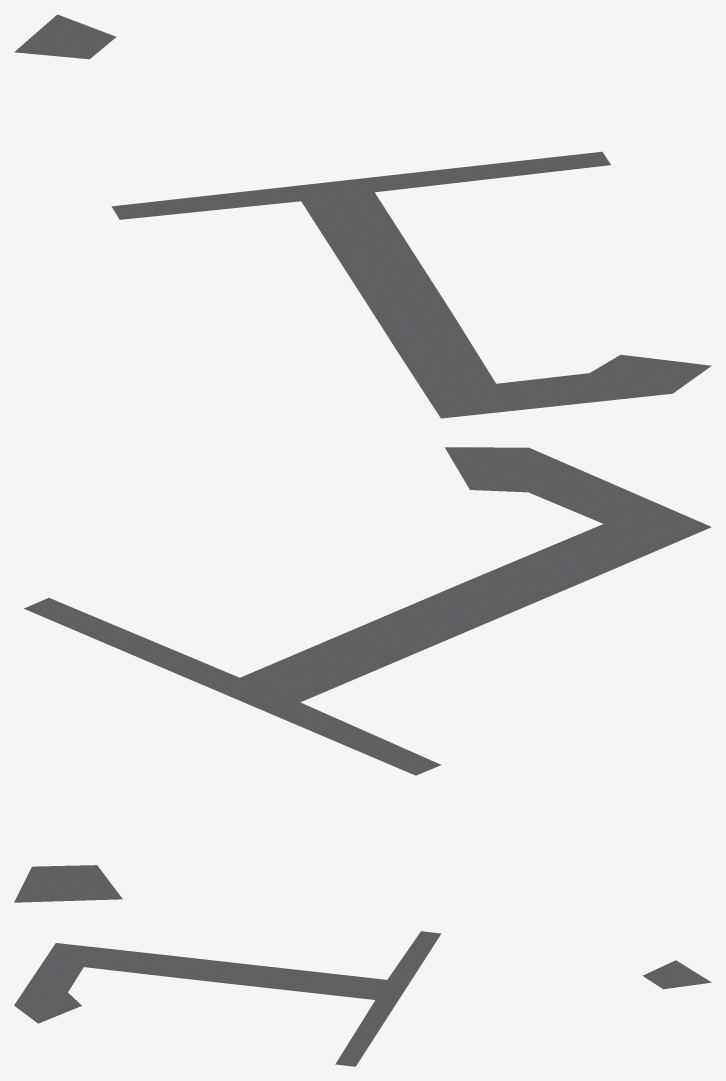
File: kd_connection_world-inner_surface_0_15.glb
3 views of the same model, one above another, from view 1: azimuth 30°, elevation 25°; view 2: azimuth 150°, elevation 25°; view 3: azimuth 270°, elevation 25° (orthographic). The views are drawn at different scales.
Parts seen in each view (by area): view 1: kd_connection_world-inner_surface_0_15; view 2: kd_connection_world-inner_surface_0_15; view 3: kd_connection_world-inner_surface_0_15.
Part boxes in pixels (x1,y1,x2,y2): kd_connection_world-inner_surface_0_15: (14, 14, 711, 418); kd_connection_world-inner_surface_0_15: (14, 447, 711, 902); kd_connection_world-inner_surface_0_15: (14, 931, 711, 1066).
Bounding box in the file's own units: 40.04 × 7.63e-06 × 87.11.
Materials: 1 (1 with a texture image).
